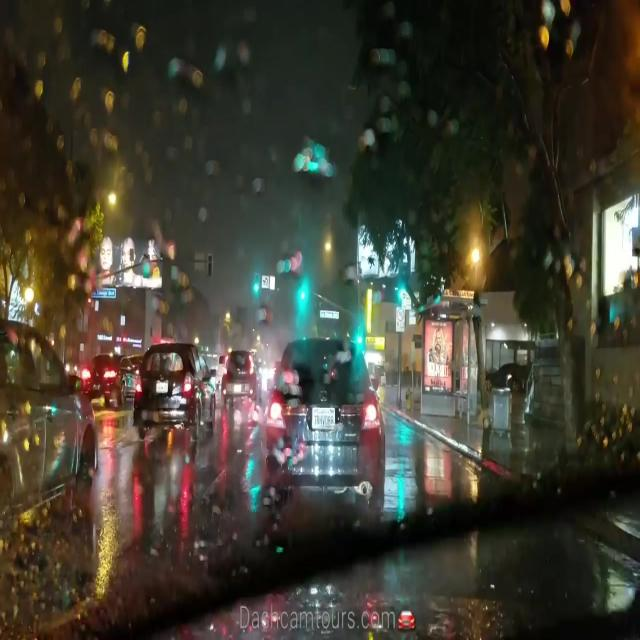Car: (261, 335, 382, 516), (4, 316, 95, 527), (129, 342, 215, 442), (220, 353, 259, 401), (90, 352, 122, 405)
